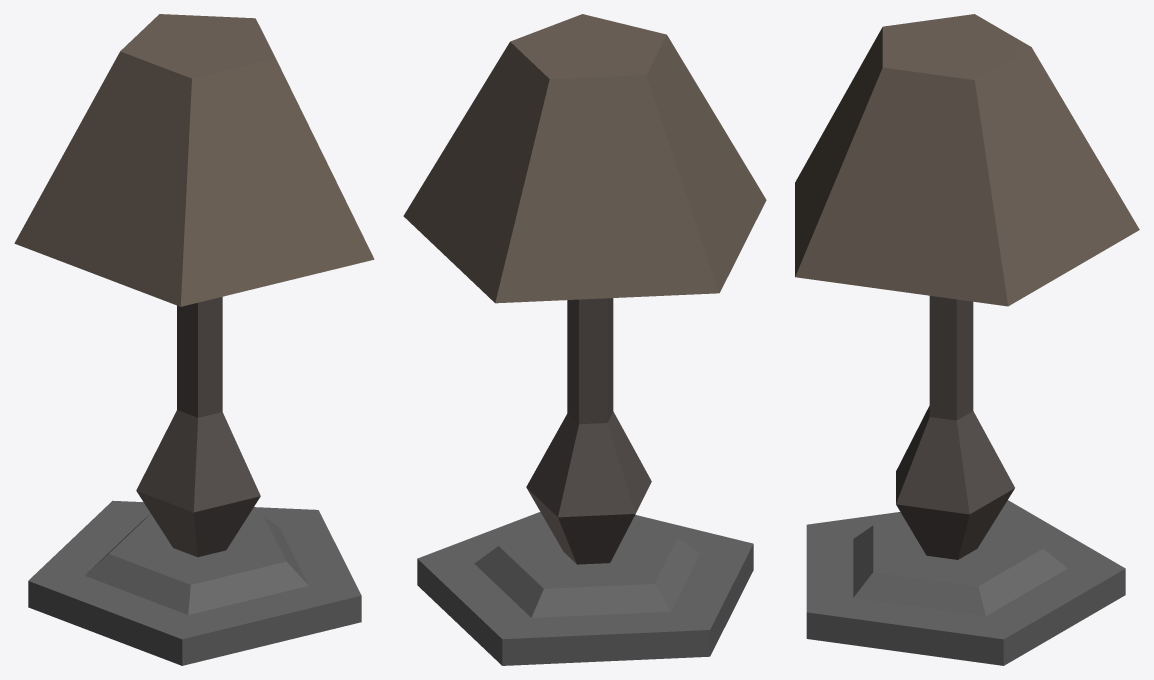
The model's file is Lamp.fbx.
The picture shows the model from 3 angles, left to right: view 1: azimuth 30°, elevation 25°; view 2: azimuth 150°, elevation 25°; view 3: azimuth 270°, elevation 25°; orthographic projection.
Parts seen in each view (by area): view 1: Lamp; view 2: Lamp; view 3: Lamp.
Boxes of the visible parts, box(x1,y1,x2,y2) form: Lamp: box(14, 14, 374, 665); Lamp: box(403, 14, 766, 665); Lamp: box(795, 14, 1139, 665).
Bounding box in the file's own units: 0.2686 × 0.448 × 0.2554.
